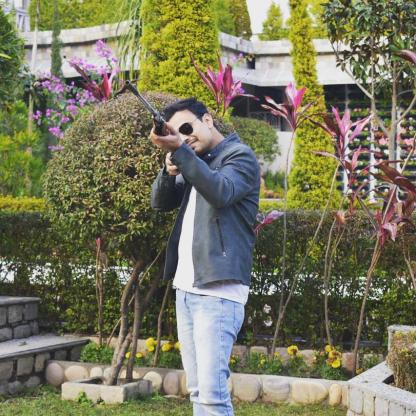rifle: (124, 79, 182, 152)
